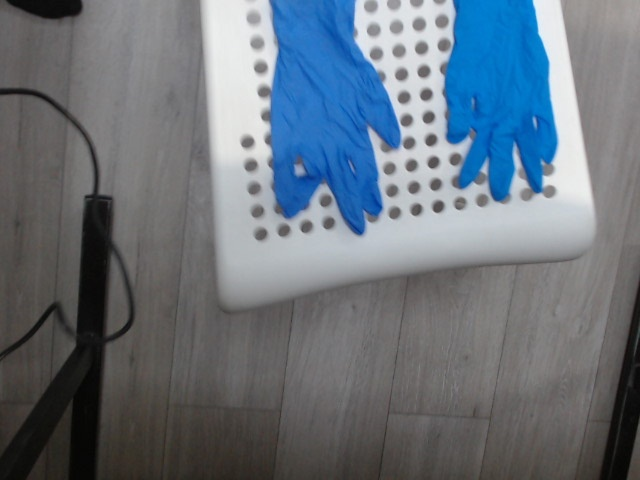medical_glove: (269, 1, 400, 231), (447, 1, 557, 196)
